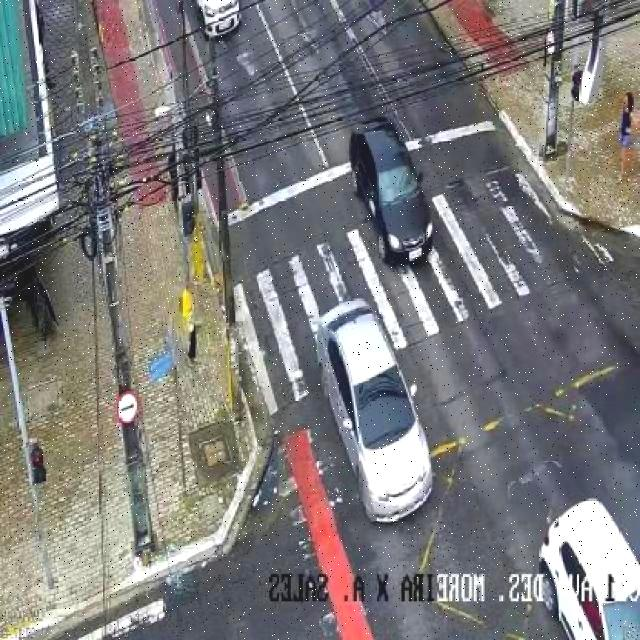Car: (312, 299, 438, 523), (349, 113, 440, 270), (539, 504, 640, 640), (189, 0, 252, 41)
